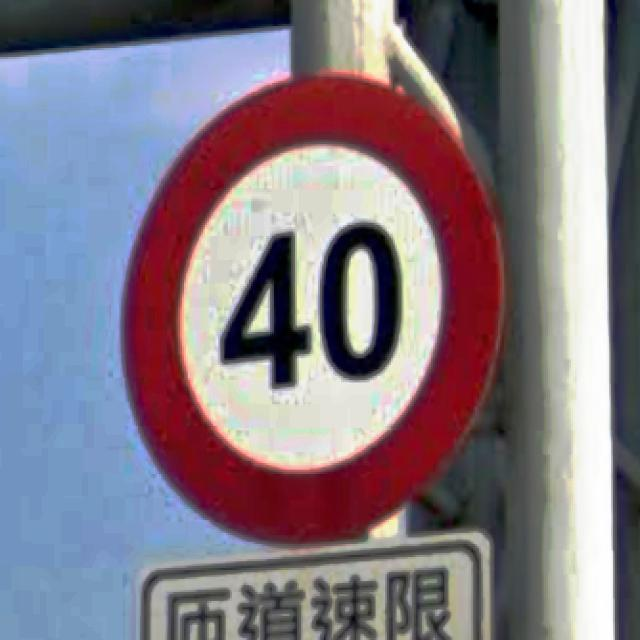max40: (119, 68, 510, 544)
